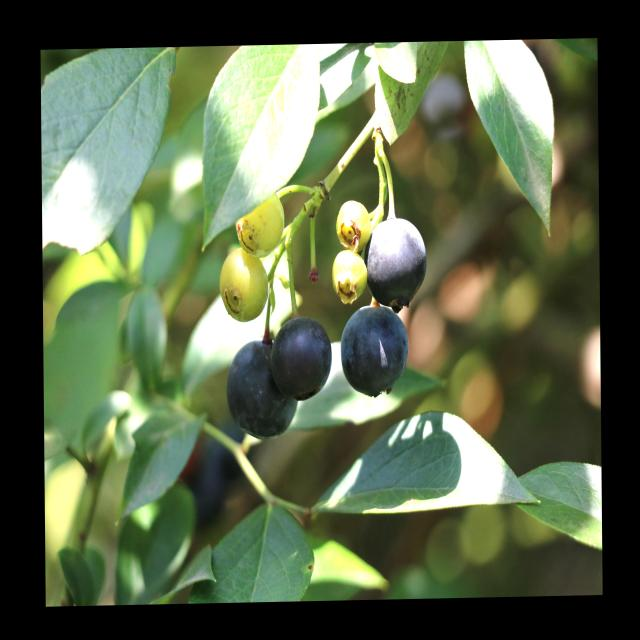blueberry: (361, 207, 434, 313), (225, 337, 300, 439), (339, 302, 409, 401), (268, 312, 332, 404)
blueberry-unripe: (218, 246, 270, 322), (236, 188, 287, 255), (336, 195, 374, 255), (329, 246, 369, 302)
